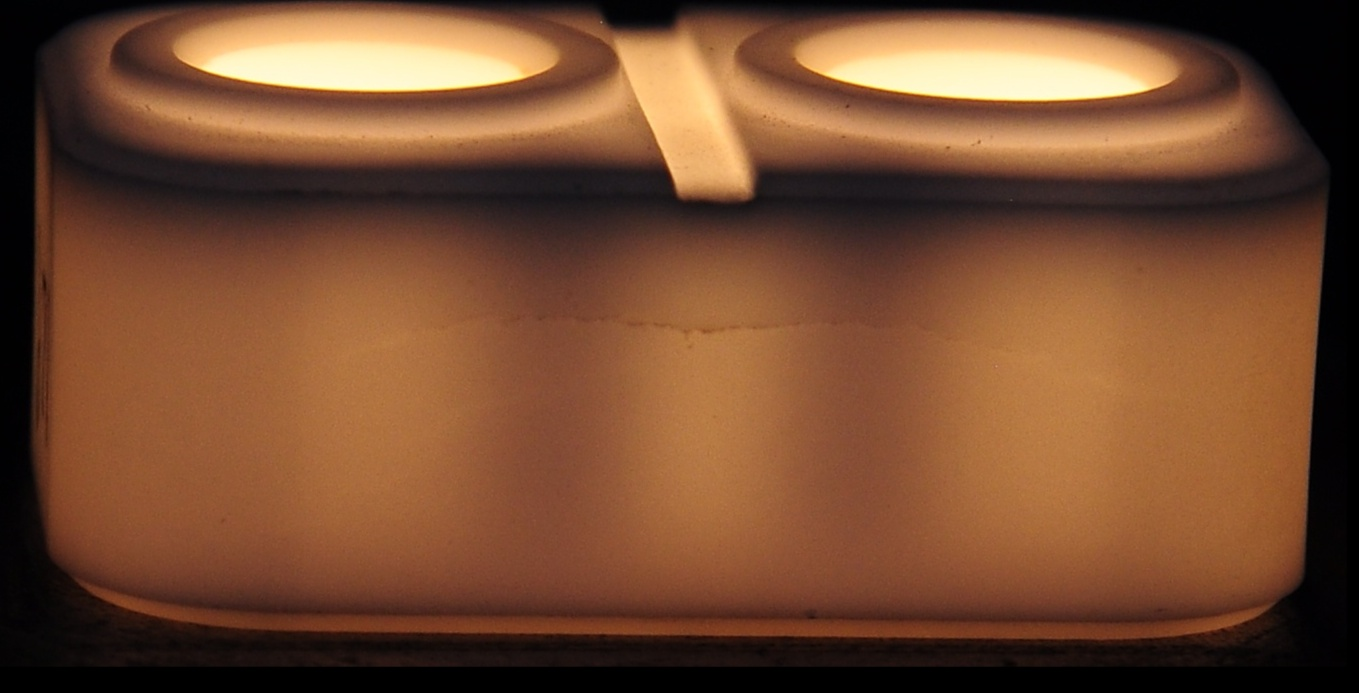flaw: (292, 302, 1095, 393)
protrusion: (835, 88, 858, 114)
